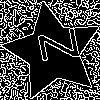Z: (28, 27, 80, 66)
